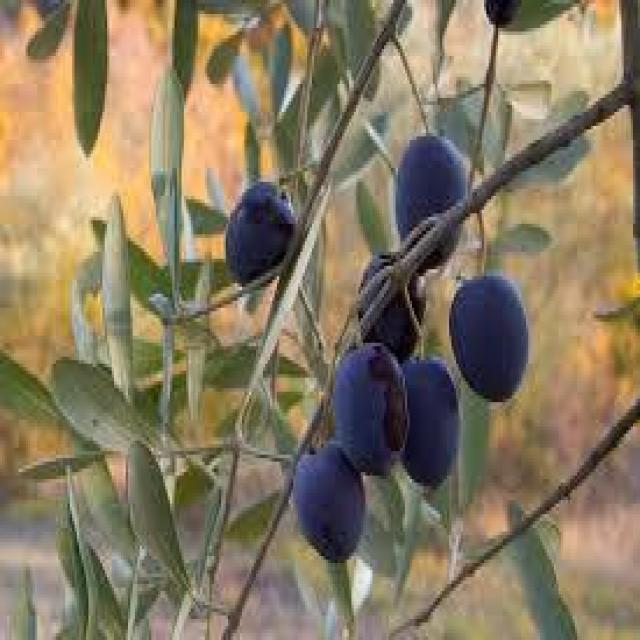Healthy: (449, 273, 528, 399), (333, 343, 407, 472), (293, 441, 363, 560), (224, 178, 296, 283)
